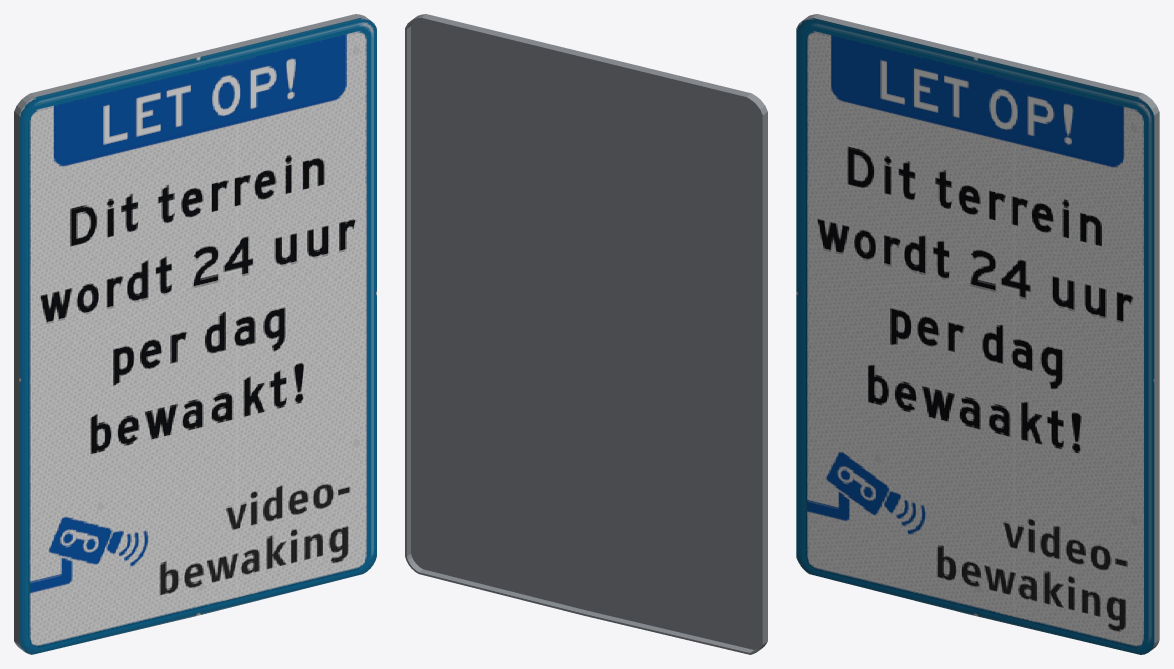
3 views of the same model, side by side, from view 1: azimuth 30°, elevation 25°; view 2: azimuth 150°, elevation 25°; view 3: azimuth 330°, elevation 25° (orthographic).
Visible parts, largest first — view 1: cat_63e8c66633d7dd69; view 2: cat_63e8c66633d7dd69; view 3: cat_63e8c66633d7dd69.
Boxes of the visible parts, left/top/right/bottom form: cat_63e8c66633d7dd69: left=14, top=14, right=376, bottom=654; cat_63e8c66633d7dd69: left=405, top=14, right=767, bottom=654; cat_63e8c66633d7dd69: left=796, top=14, right=1159, bottom=654.
Size of the model in its own units: 0.6 by 0.015 by 0.8948.
2 materials, 1 textured.
